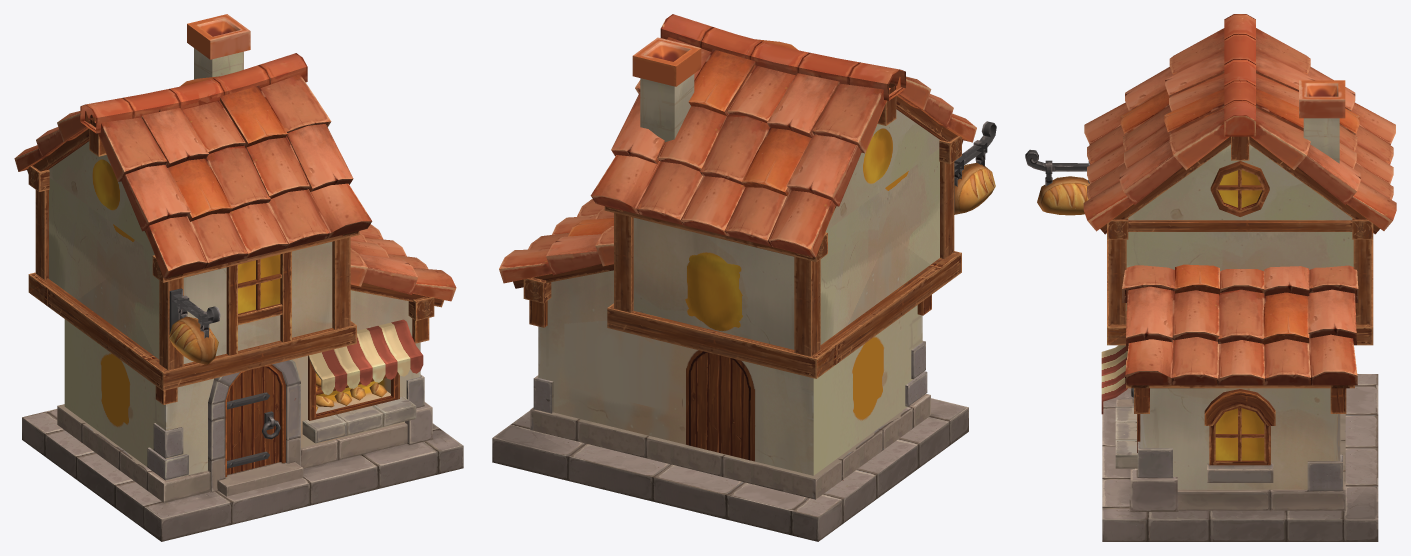
Rendered from lvl2.fbx.
The picture shows the model from 3 angles, left to right: view 1: azimuth 30°, elevation 25°; view 2: azimuth 150°, elevation 25°; view 3: azimuth 270°, elevation 25°; orthographic projection. The views are drawn at different scales.
Visible parts, largest first — view 1: bakery_lvl2; view 2: bakery_lvl2; view 3: bakery_lvl2.
Boxes of the visible parts, left/top/right/bottom form: bakery_lvl2: left=14, top=14, right=463, bottom=541; bakery_lvl2: left=492, top=14, right=996, bottom=541; bakery_lvl2: left=1025, top=14, right=1396, bottom=541.
Bounding box in the file's own units: 3.62 × 4.34 × 3.77.
